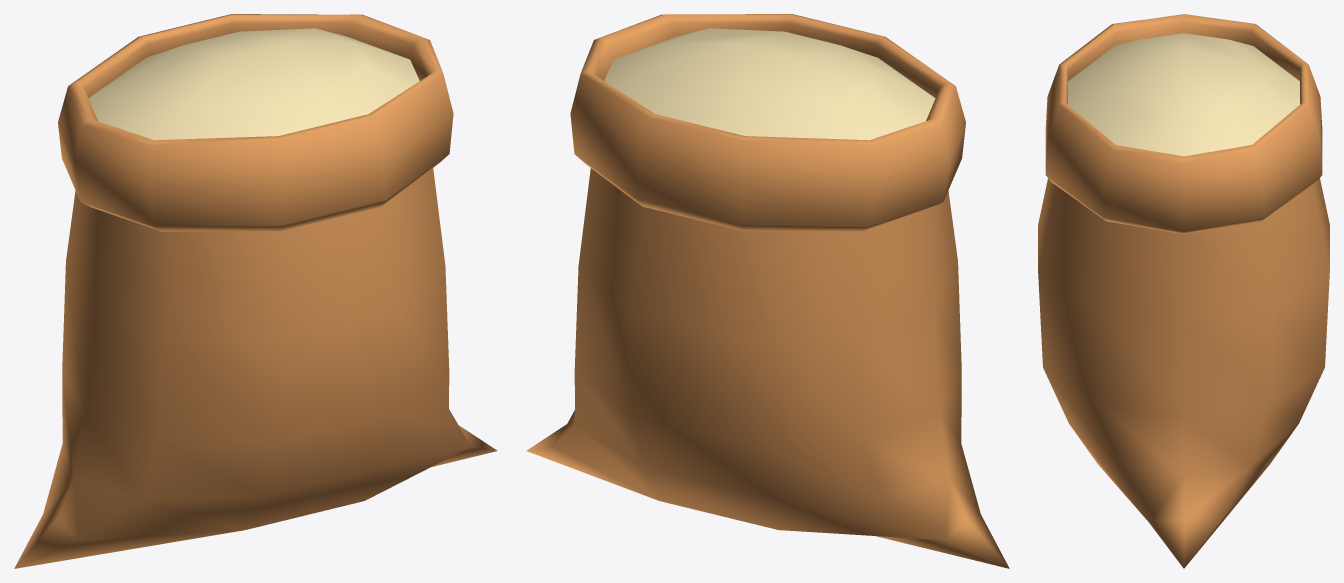
File: beras.fbx
3 views of the same model, side by side, from view 1: azimuth 30°, elevation 25°; view 2: azimuth 150°, elevation 25°; view 3: azimuth 270°, elevation 25° (orthographic). The views are drawn at different scales.
Parts seen in each view (by area): view 1: beras; view 2: beras; view 3: beras.
Boxes of the visible parts, x1,y1,x2,y2 form: beras: (14, 14, 497, 568); beras: (526, 14, 1009, 568); beras: (1038, 14, 1329, 568).
Size of the model in its own units: 103 by 93.77 by 61.31.
